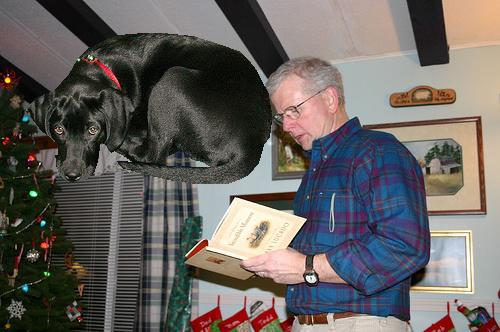tampered: (26, 34, 272, 184)
